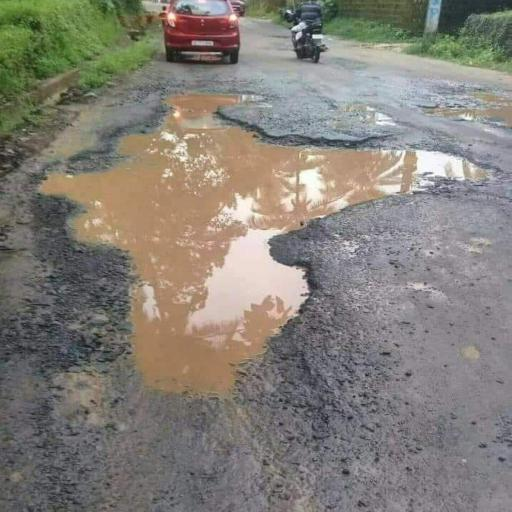hole: (42, 88, 488, 402)
